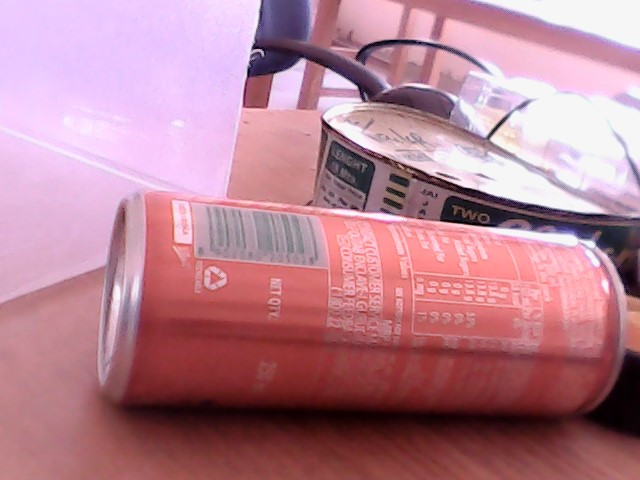Metal: (90, 191, 640, 434)
